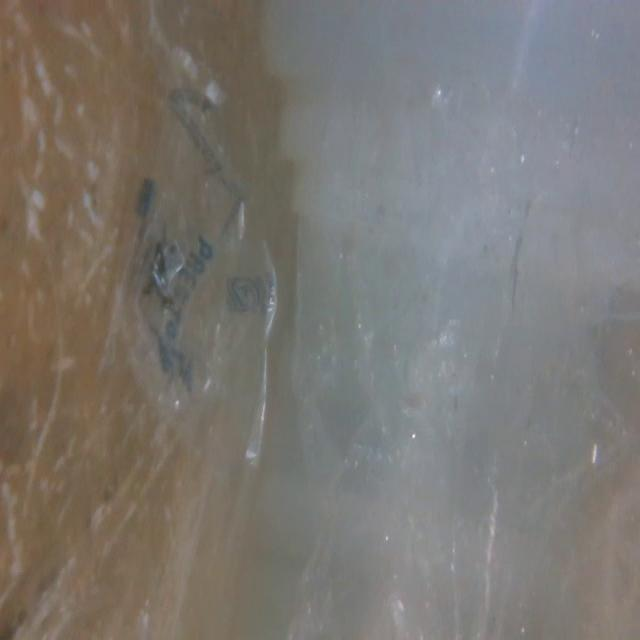plastic bags: (88, 53, 288, 482)
